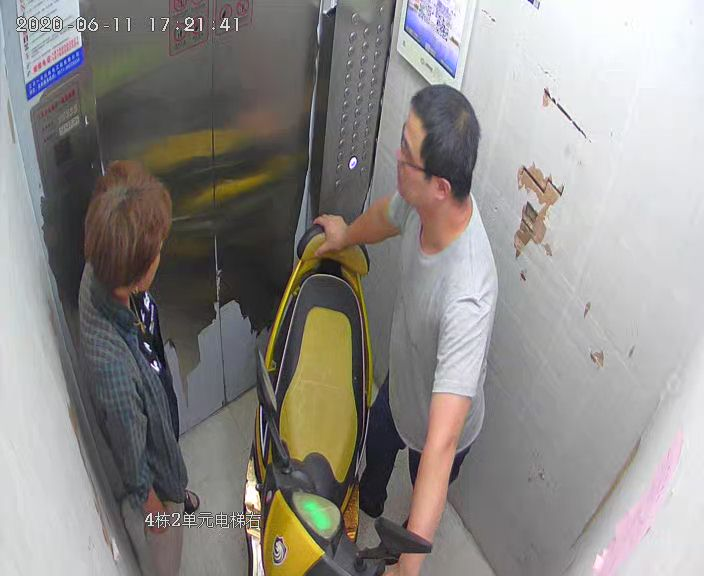Electric-bicycle: (253, 226, 430, 576)
